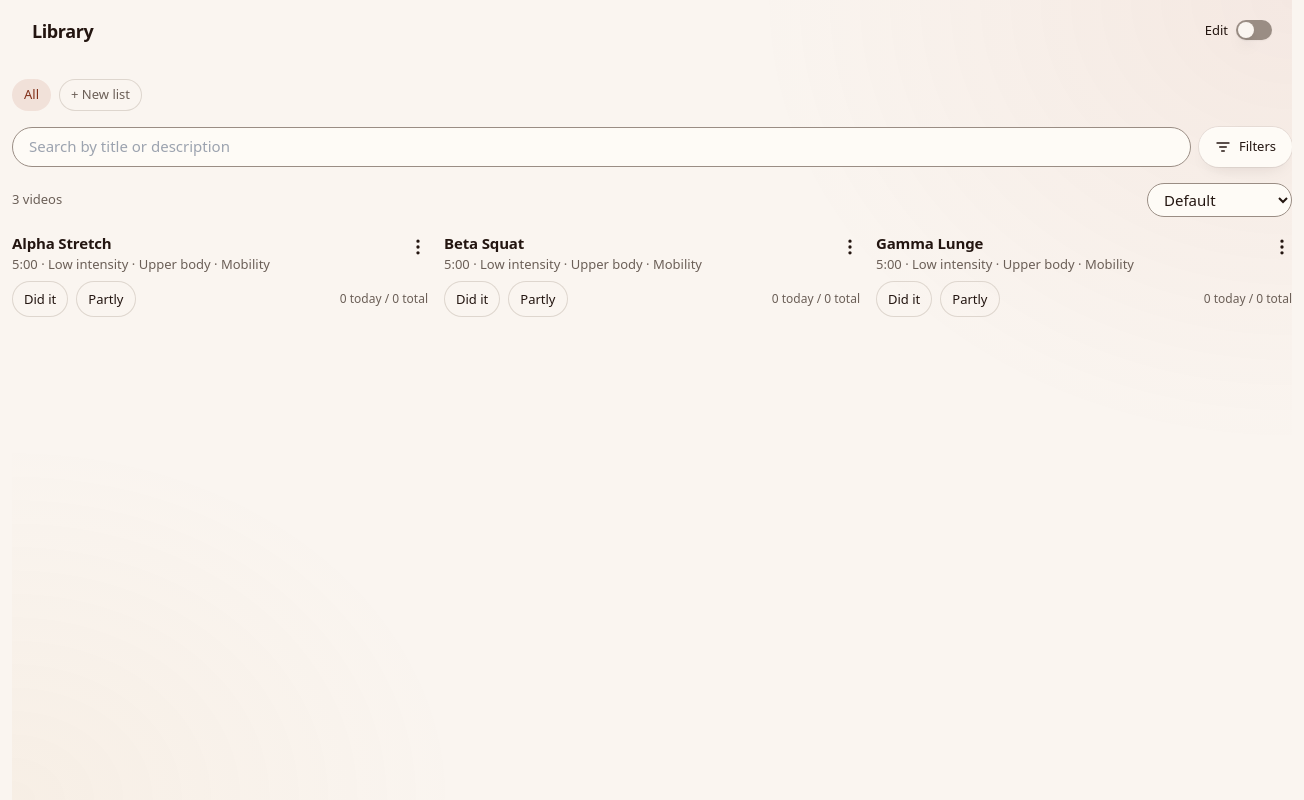
Test: the edit switch turns the cards into compact rows with Add, Edit and Delete
Expected: the heading "Alpha Stretch" is shown, [12,232,112,252]
Expected: the button "add exercise" is not shown
What coordinates should you click on to do the following:
click the switch named "edit"
I would click on:
 (1254, 30)
Its box is [1236,20,1272,40].
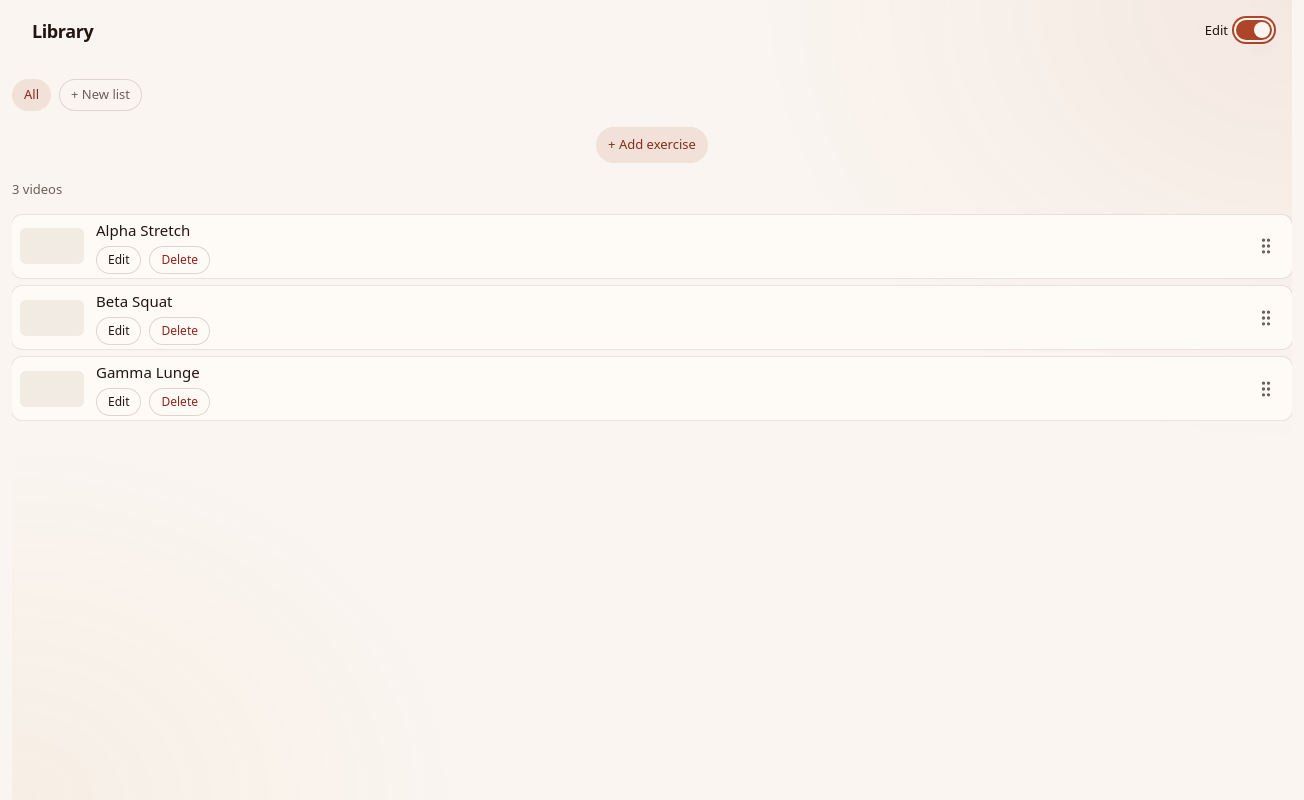
Now the button "+ Add exercise" is shown, box [596,126,708,162]
Now the button with aria-label "Edit Alpha Stretch" reads "Edit", box [96,246,142,274]
Now the button with aria-label "Delete Beta Squat" reads "Delete", box [150,317,210,345]
What coordinates should you click on to do the following:
click the switch named "edit"
I would click on:
 (1254, 30)
Its box is [1236,20,1272,40].
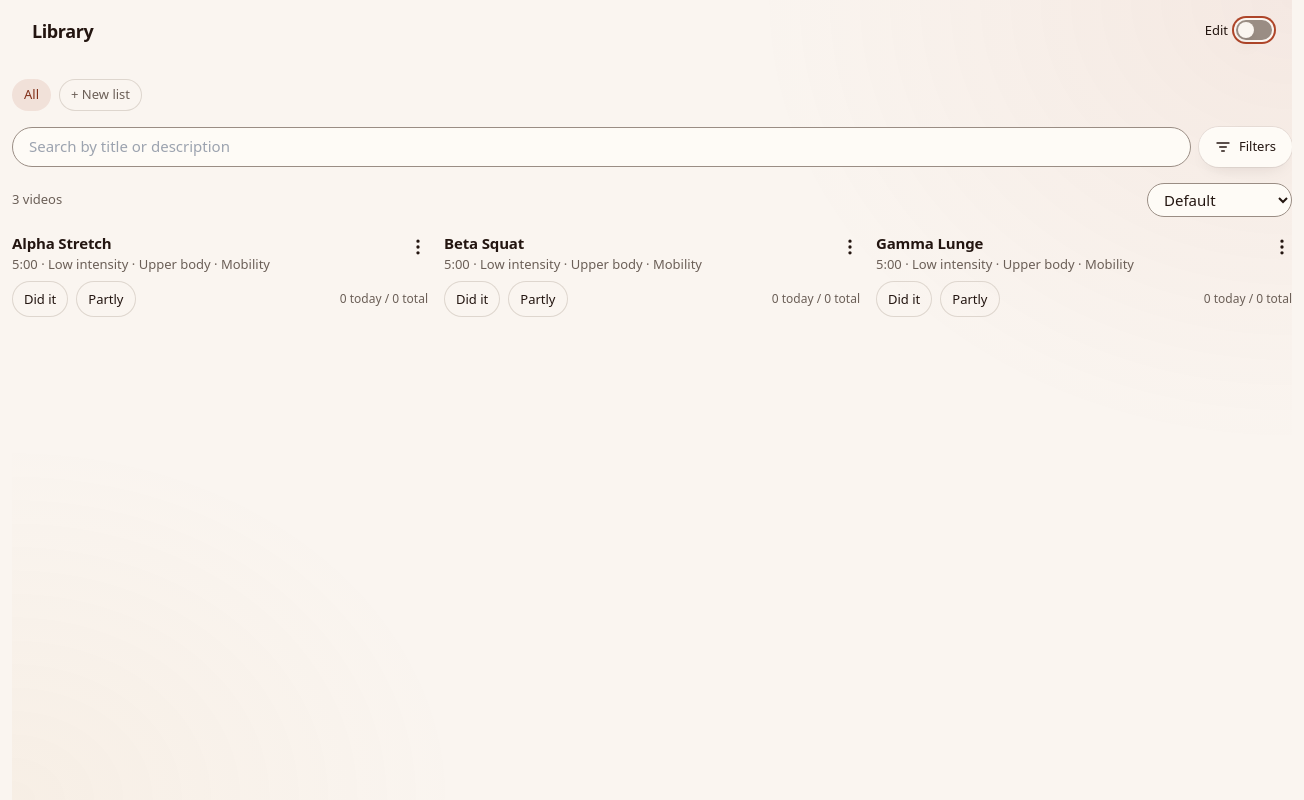
Now the button "Add exercise" is gone
